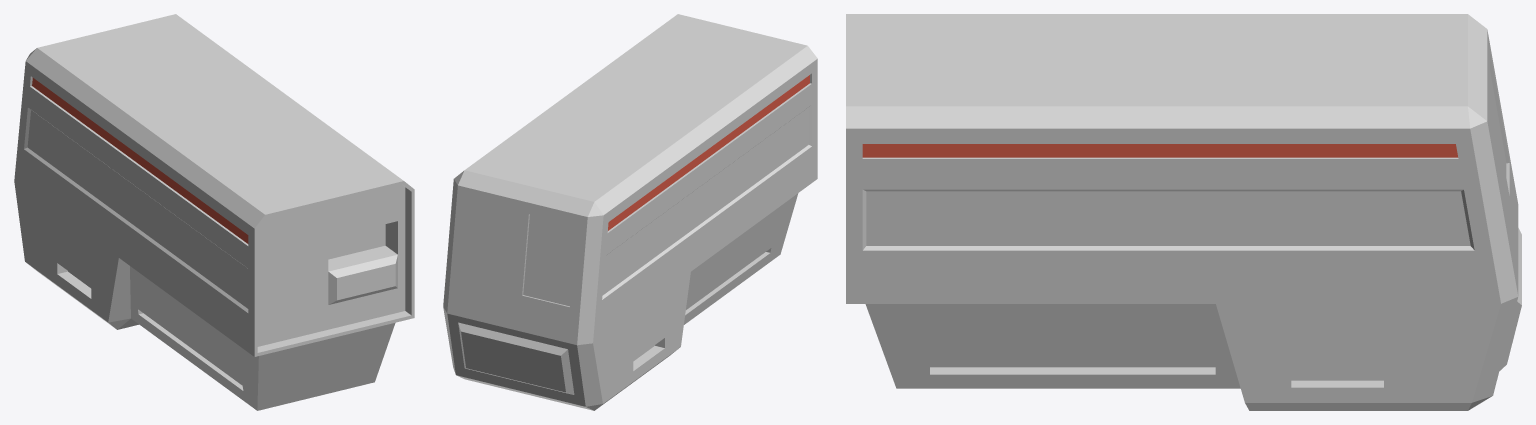
Rendered from ac-emergency-bot-04.glb.
3 renders of one model, left to right at view 1: azimuth 30°, elevation 25°; view 2: azimuth 150°, elevation 25°; view 3: azimuth 270°, elevation 25°, orthographic. The views are drawn at different scales.
Visible parts, largest first — view 1: Greebled.001; view 2: Greebled.001; view 3: Greebled.001.
Boxes of the visible parts, left/top/right/bottom form: Greebled.001: left=14, top=14, right=414, bottom=410; Greebled.001: left=443, top=14, right=817, bottom=410; Greebled.001: left=846, top=14, right=1521, bottom=410.
Size of the model in its own units: 3 by 4 by 8.04.
